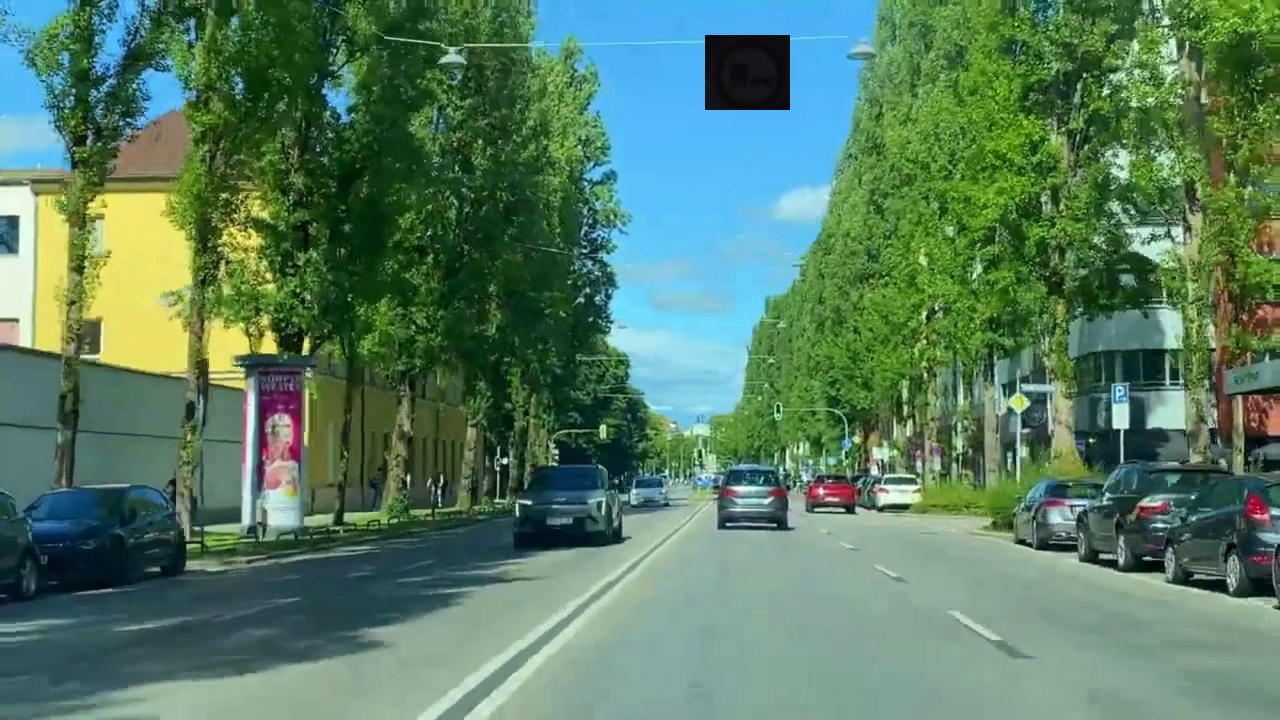No pass >3.5t: (705, 35, 790, 110)
